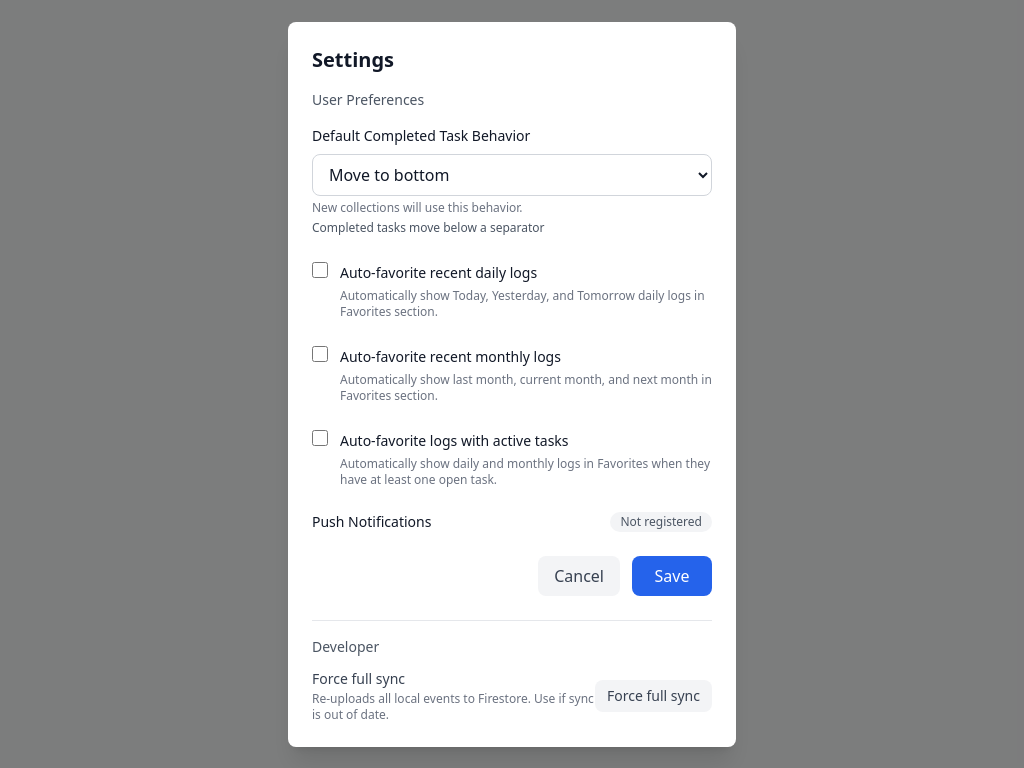
SettingsModal › should update behavior description when selection changes
Note: Change to 'collapse'
Select "Collapse" in the dropdown labelled "Default Completed Task Behavior" at (512, 174), box [312, 154, 712, 196]
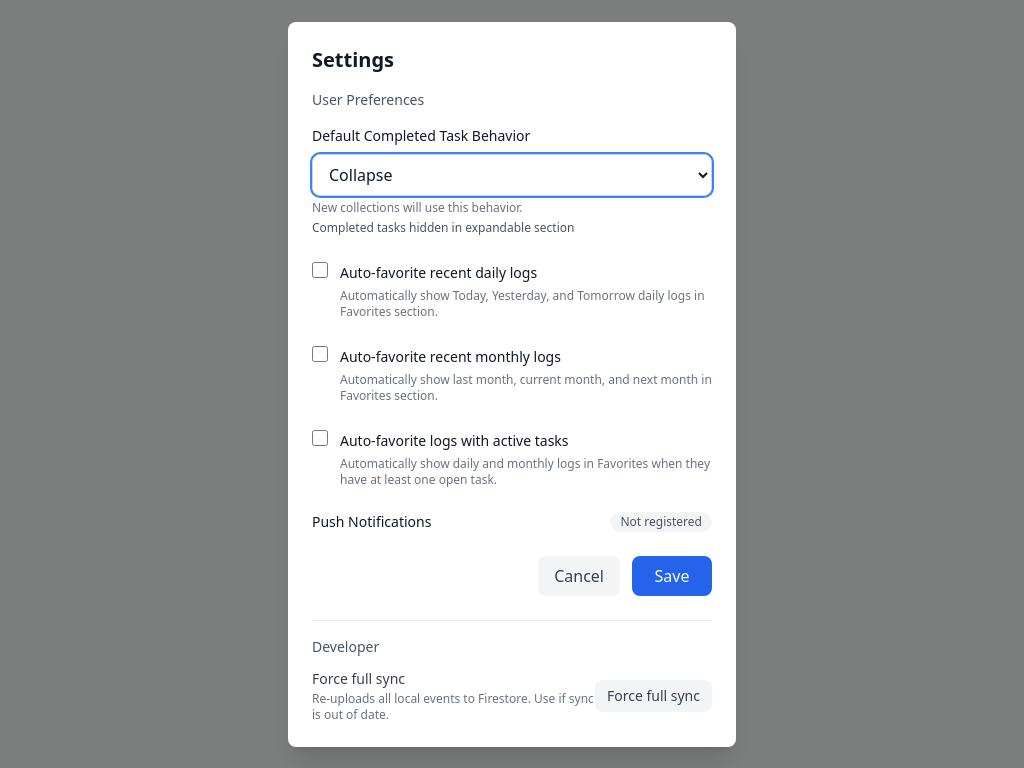
Expected: the text "Completed tasks hidden in expandable section" is shown, [312, 218, 574, 236]
